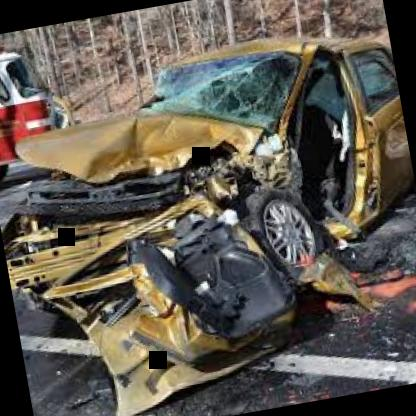accident: (14, 31, 416, 414)
